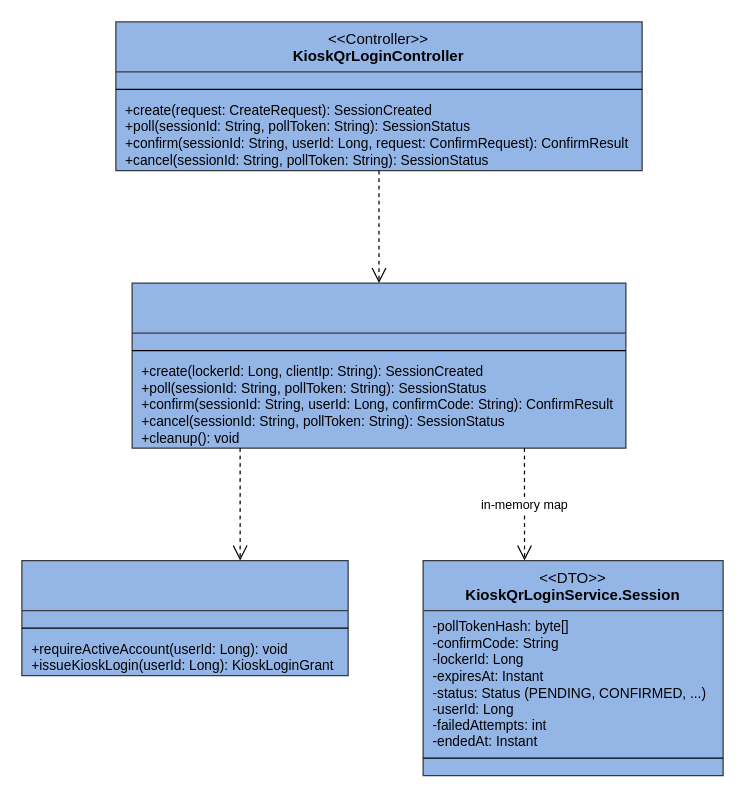
The diagram is 745 pixels wide and 798 high, and some of its shapes have lost their labels. Each missing label, with the box of its shape:
<<Service>> AuthService: (21, 559, 348, 676)
<<Service>> KioskQrLoginService: (131, 282, 626, 448)
